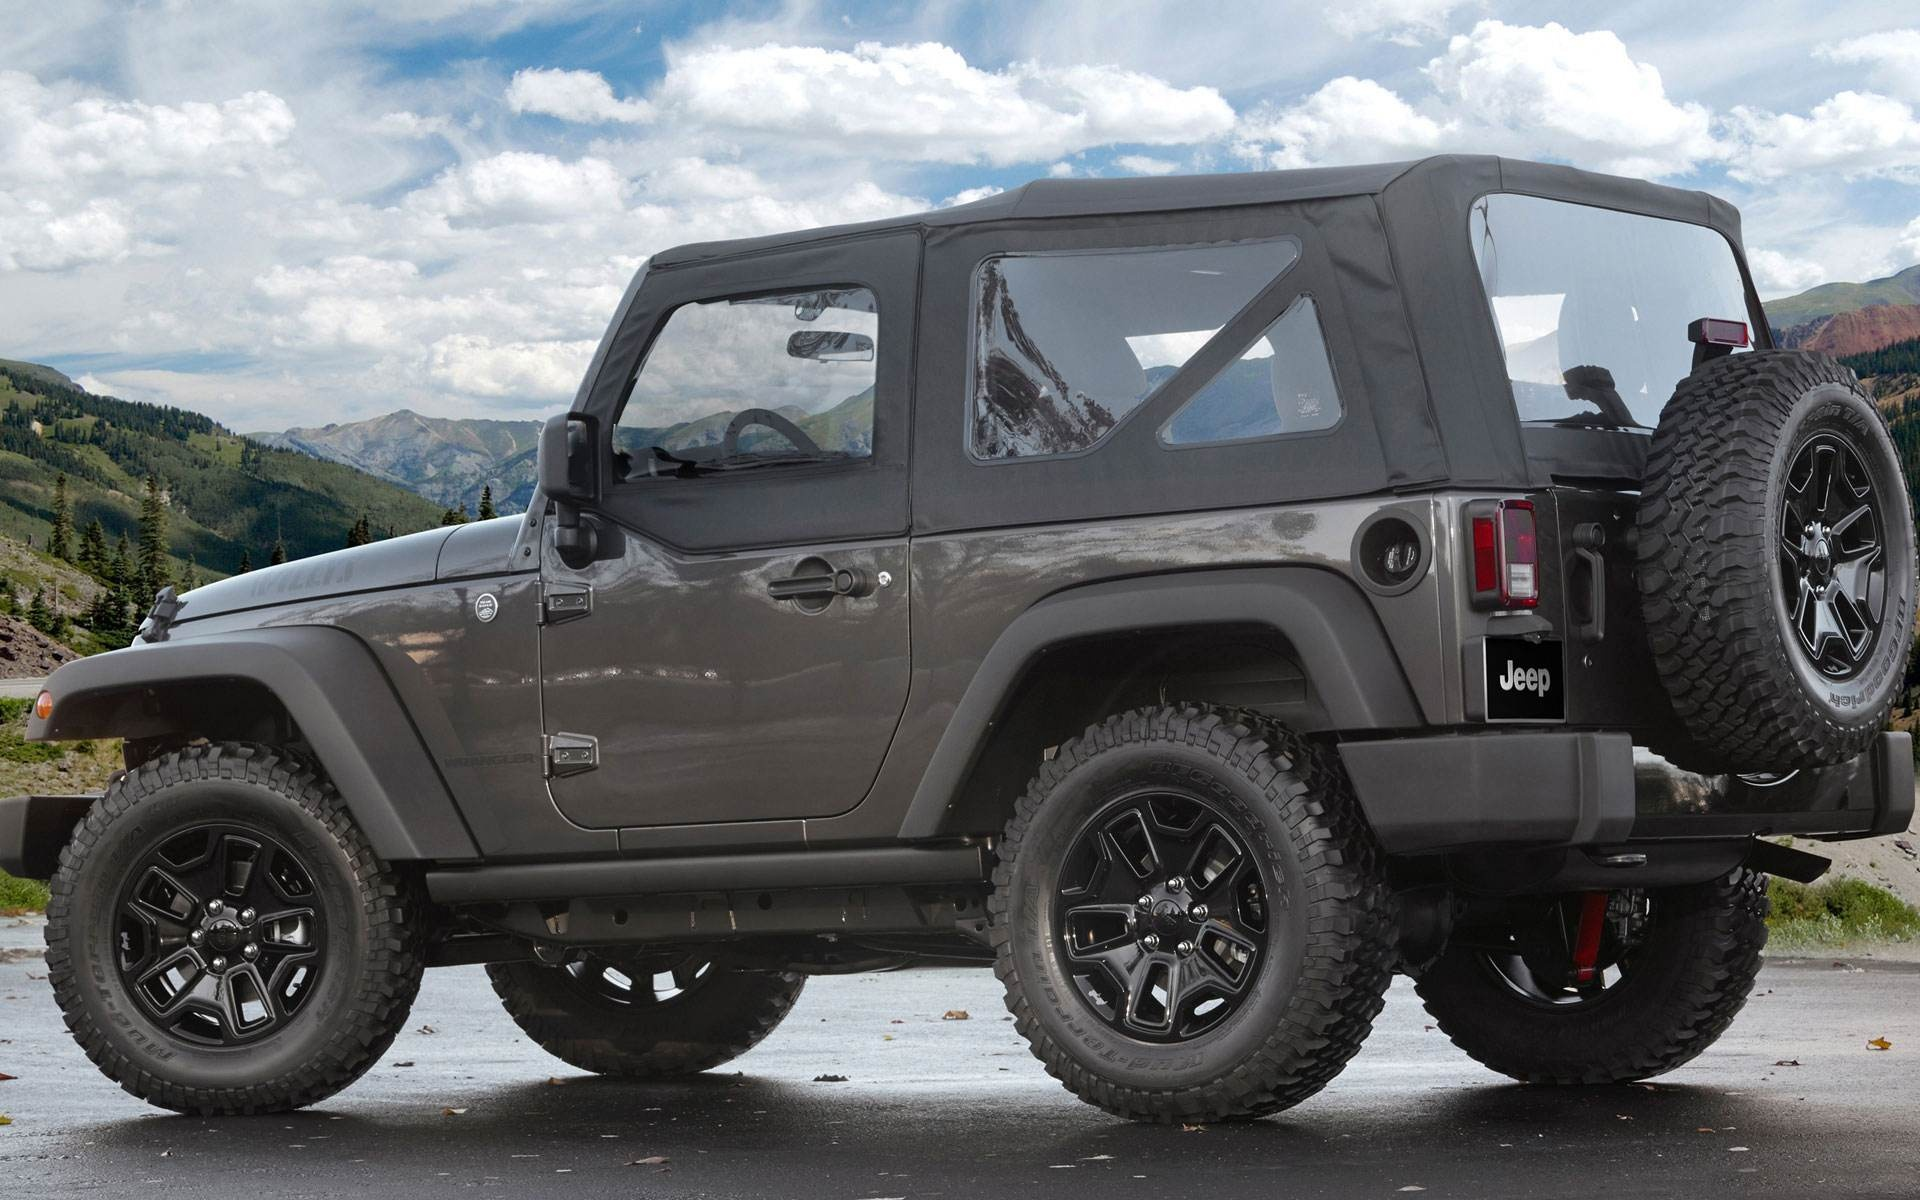jeep: (108, 153, 1874, 1171)
